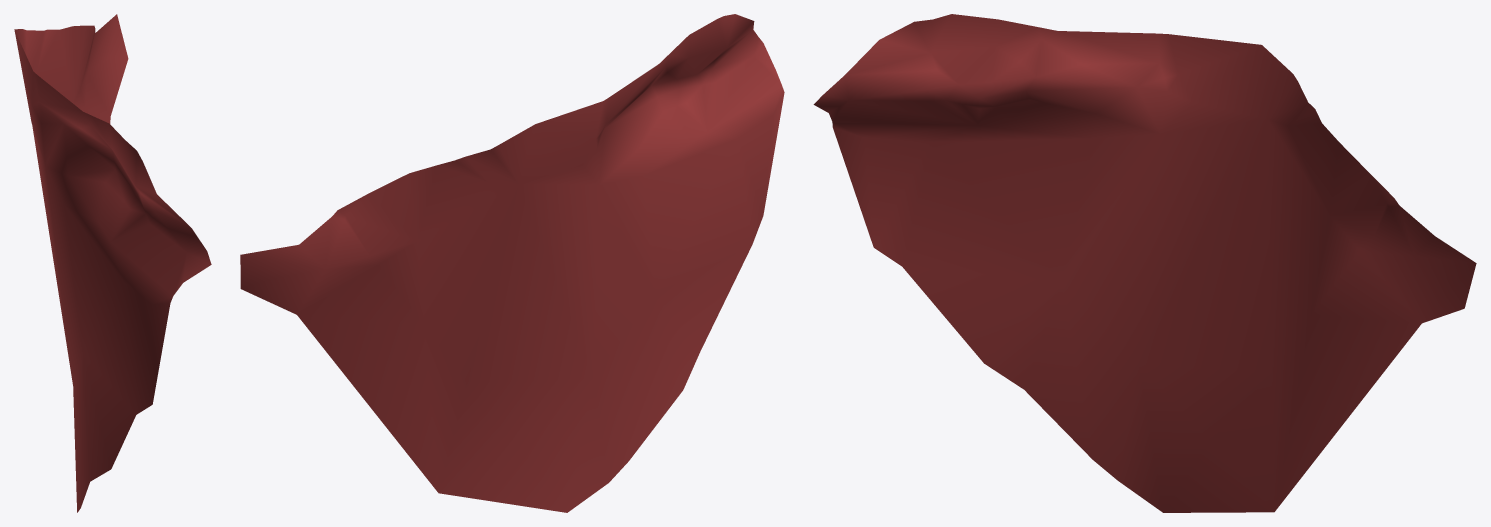
File: teres-minor-muscle-er.glb
3 views of the same model, side by side, from view 1: azimuth 30°, elevation 25°; view 2: azimuth 150°, elevation 25°; view 3: azimuth 270°, elevation 25° (orthographic). The views are drawn at different scales.
Visible parts, largest first — view 1: Teres minor muscle.er; view 2: Teres minor muscle.er; view 3: Teres minor muscle.er.
Part boxes in pixels (box(x1,y1,x2,y2)): Teres minor muscle.er: box(14, 14, 211, 512); Teres minor muscle.er: box(240, 14, 784, 512); Teres minor muscle.er: box(813, 14, 1476, 512).
Size of the model in its own units: 0.0112 by 0.0183 by 0.0233.
